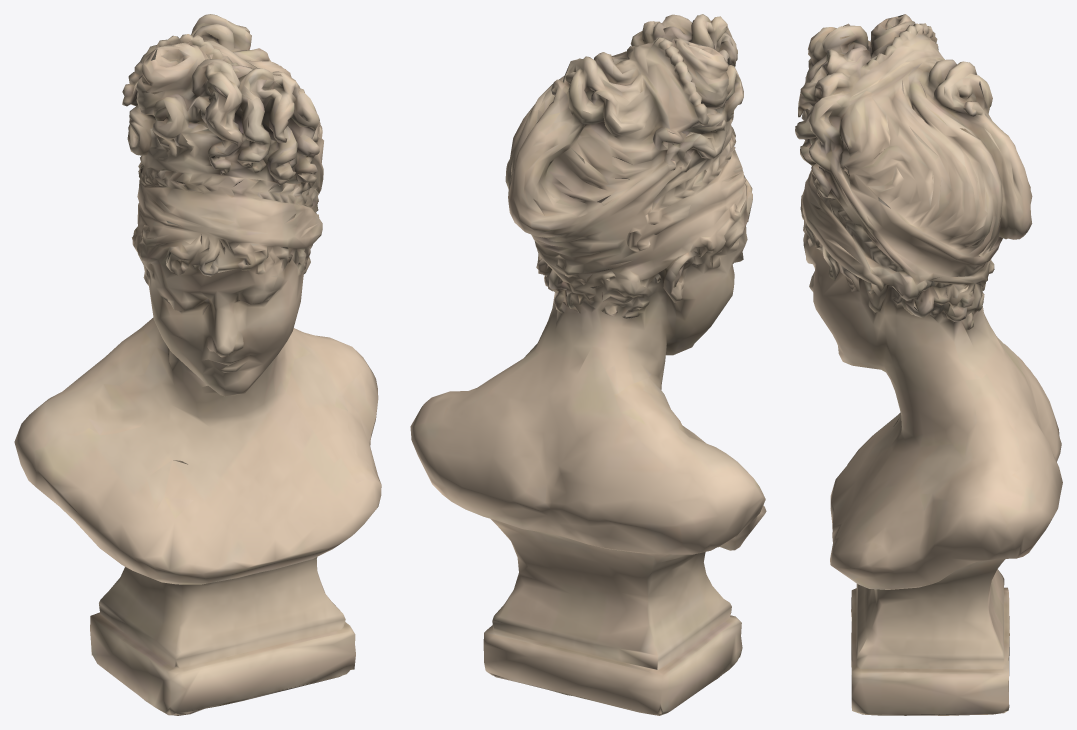
3 renders of one model, left to right at view 1: azimuth 30°, elevation 25°; view 2: azimuth 150°, elevation 25°; view 3: azimuth 270°, elevation 25°, orthographic. The views are drawn at different scales.
Parts seen in each view (by area): view 1: Mesh; view 2: Mesh; view 3: Mesh.
Part boxes in pixels (x1=…): Mesh: x1=14, y1=14, x2=381, y2=715; Mesh: x1=410, y1=14, x2=766, y2=715; Mesh: x1=795, y1=14, x2=1062, y2=715.
Bounding box in the file's own units: 0.337 × 0.6061 × 0.2352.
1 material, 1 textured.
